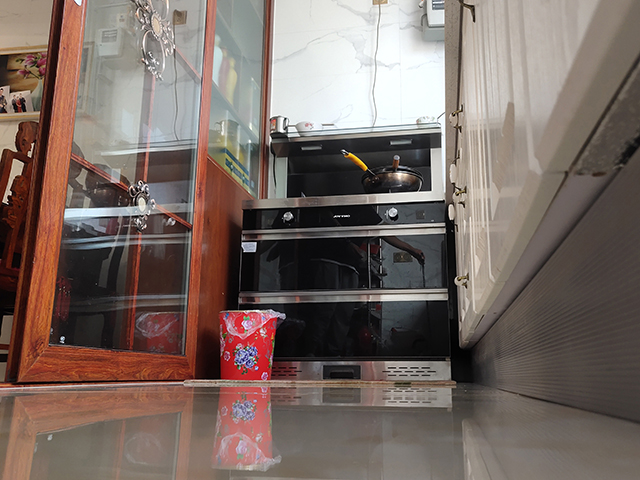cabinet: (440, 1, 640, 423)
carpet: (182, 377, 458, 387)
stool: (1, 117, 131, 387)
trashcan: (216, 309, 279, 381)
